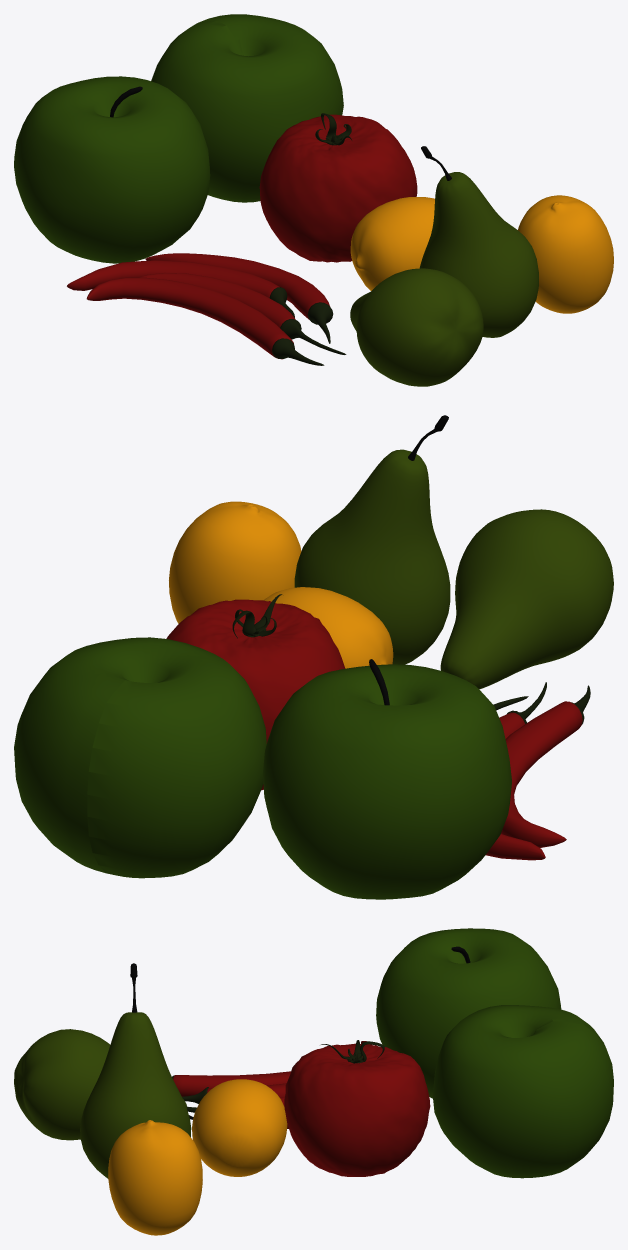
File: fruit.FBX
3 renders of one model, top to bottom at view 1: azimuth 30°, elevation 25°; view 2: azimuth 150°, elevation 25°; view 3: azimuth 270°, elevation 25°, orthographic. The views are drawn at different scales.
Parts seen in each view (by area): view 1: Sphere06; view 2: Sphere06; view 3: Sphere06.
Part boxes in pixels (box(x1,y1,x2,y2)): Sphere06: box(14, 14, 613, 386); Sphere06: box(14, 415, 613, 899); Sphere06: box(14, 928, 613, 1235).
Size of the model in its own units: 23.99 by 11.59 by 32.08.
